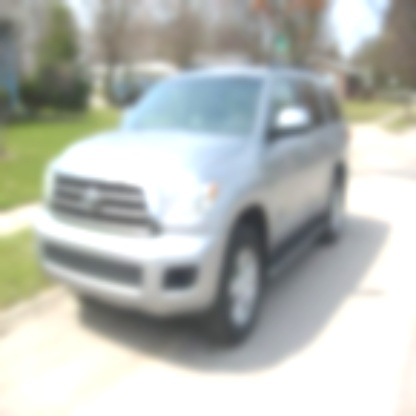Vehicle: (28, 64, 354, 340)
